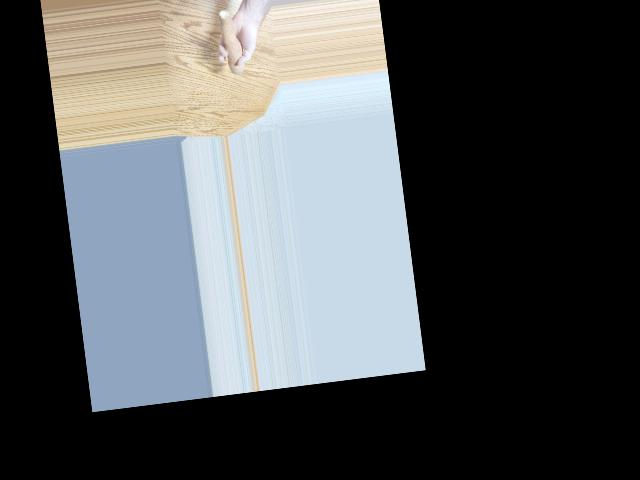sweet_potato: (218, 13, 246, 72)
